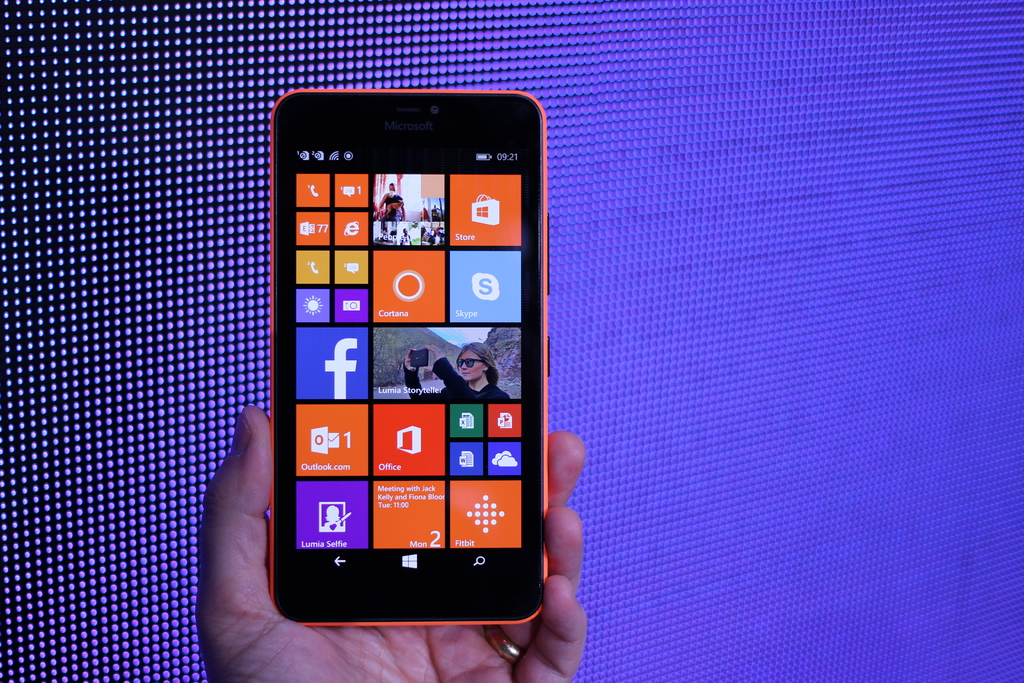mobile phone: (269, 88, 544, 627)
